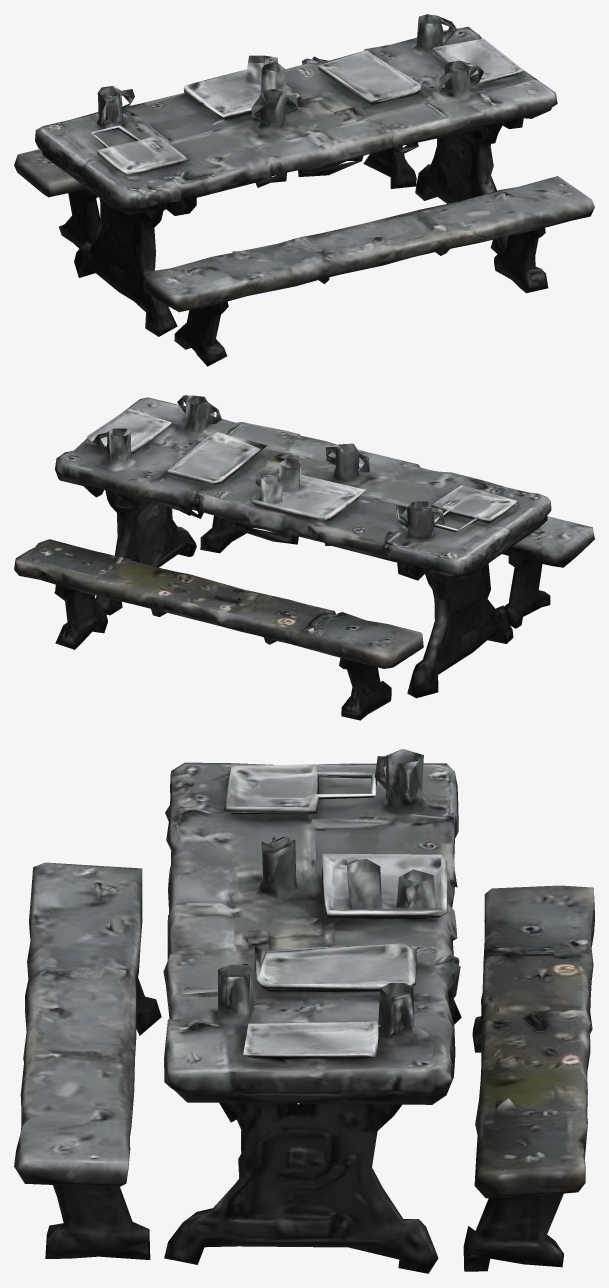
File: xd_mess.glb
The picture shows the model from 3 angles, top to bottom: view 1: azimuth 30°, elevation 25°; view 2: azimuth 150°, elevation 25°; view 3: azimuth 270°, elevation 25°; orthographic projection. The views are drawn at different scales.
Visible parts, largest first — view 1: tripo_node_6a95f0bc-4529-4cea-87eb-e8700e30ca9b; view 2: tripo_node_6a95f0bc-4529-4cea-87eb-e8700e30ca9b; view 3: tripo_node_6a95f0bc-4529-4cea-87eb-e8700e30ca9b.
Part boxes in pixels (x1,y1,x2,y2): tripo_node_6a95f0bc-4529-4cea-87eb-e8700e30ca9b: (14,14,594,366); tripo_node_6a95f0bc-4529-4cea-87eb-e8700e30ca9b: (14,395,594,720); tripo_node_6a95f0bc-4529-4cea-87eb-e8700e30ca9b: (14,749,594,1273).
Bounding box in the file's own units: 1 × 0.4163 × 0.7764.
1 material, 1 textured.
